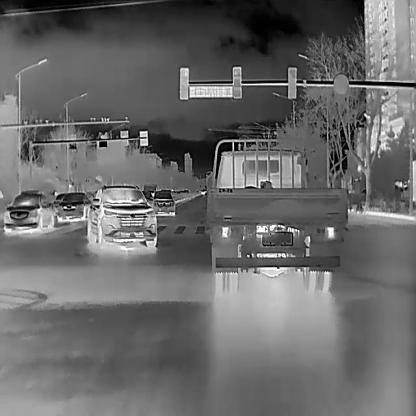car: (86, 184, 157, 248), (2, 187, 54, 234), (56, 191, 90, 222), (151, 189, 175, 216)
truck: (205, 138, 346, 294)
